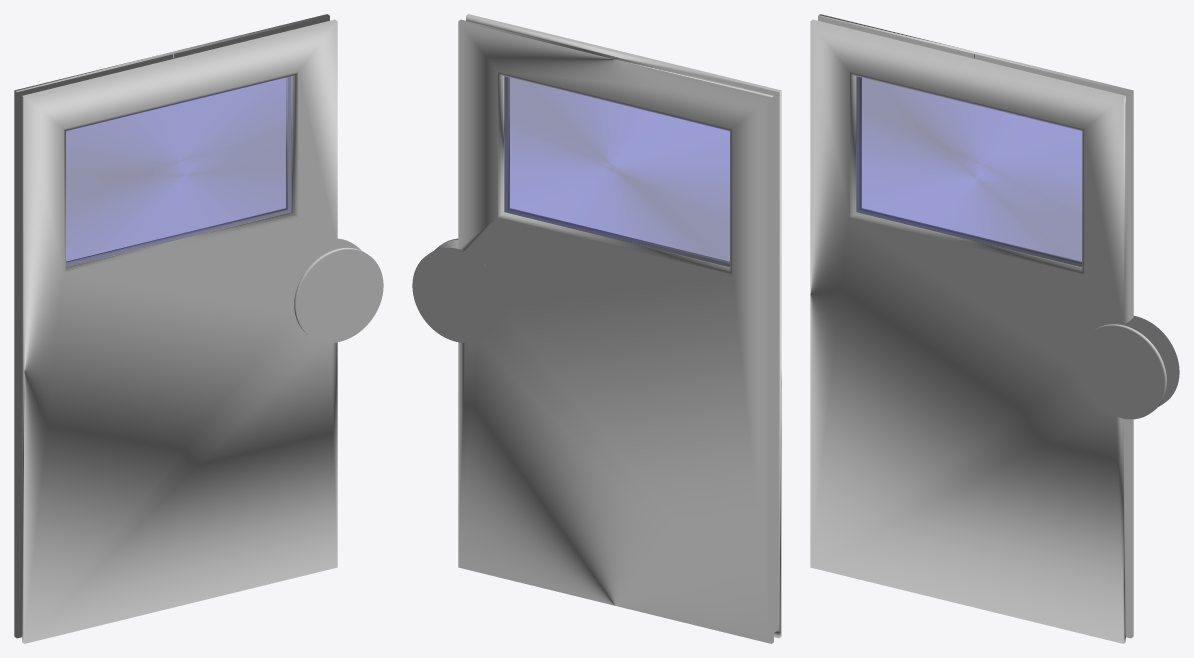
The model's file is right-door.obj.
The picture shows the model from 3 angles, left to right: view 1: azimuth 30°, elevation 25°; view 2: azimuth 150°, elevation 25°; view 3: azimuth 330°, elevation 25°; orthographic projection.
Parts seen in each view (by area): view 1: Door-Left, Door-Left.002, Door-Left.001; view 2: Door-Left, Door-Left.001, Door-Left.002; view 3: Door-Left, Door-Left.002, Door-Left.001.
Boxes of the visible parts, box(x1,y1,x2,y2) form: Door-Left: box(14, 14, 383, 643); Door-Left.002: box(66, 77, 291, 266); Door-Left.001: box(66, 78, 285, 261); Door-Left: box(412, 14, 781, 643); Door-Left.001: box(504, 77, 729, 266); Door-Left.002: box(510, 78, 729, 261); Door-Left: box(810, 14, 1179, 643); Door-Left.002: box(856, 77, 1081, 266); Door-Left.001: box(862, 78, 1081, 261).
Size of the model in its own units: 2.08 by 3.05 by 0.1524.
